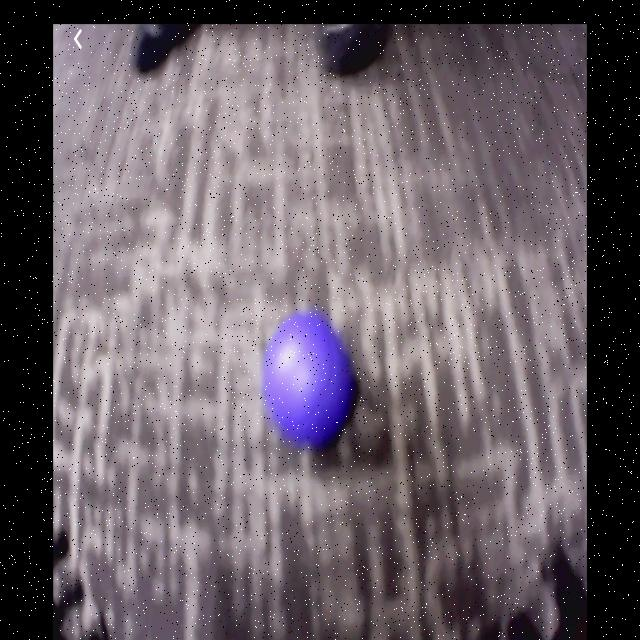ball: (262, 315, 350, 440)
